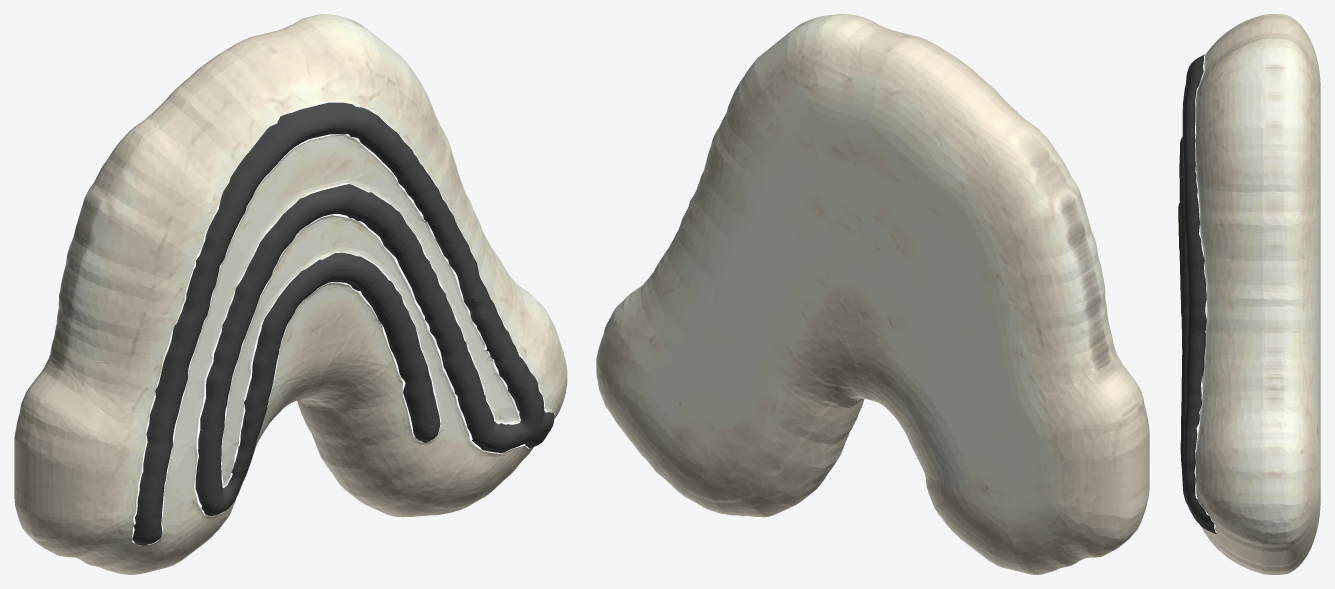
File: IAMWE_XMAS_ARCH.glb
3 renders of one model, left to right at view 1: azimuth 30°, elevation 25°; view 2: azimuth 150°, elevation 25°; view 3: azimuth 270°, elevation 25°, orthographic. The views are drawn at different scales.
Visible parts, largest first — view 1: arch_paper, arch_thread; view 2: arch_paper; view 3: arch_paper, arch_thread.
Part boxes in pixels (bbox=[...]): arch_paper: bbox=[14, 14, 567, 574]; arch_thread: bbox=[132, 102, 554, 545]; arch_paper: bbox=[596, 14, 1149, 574]; arch_paper: bbox=[1195, 14, 1320, 574]; arch_thread: bbox=[1178, 54, 1216, 533].
Size of the model in its own units: 1 by 0.9193 by 0.2501.
2 materials, 1 textured.
